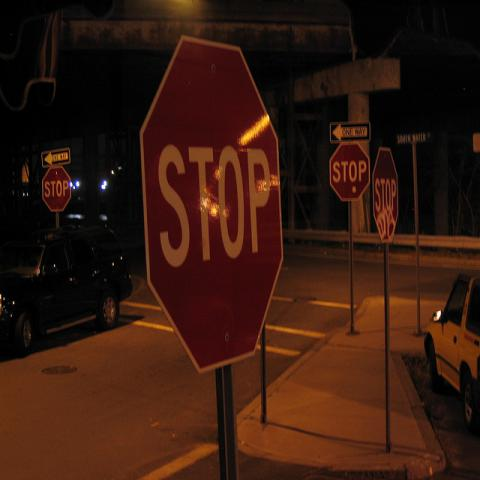car: (0, 224, 134, 356), (424, 275, 479, 427)
